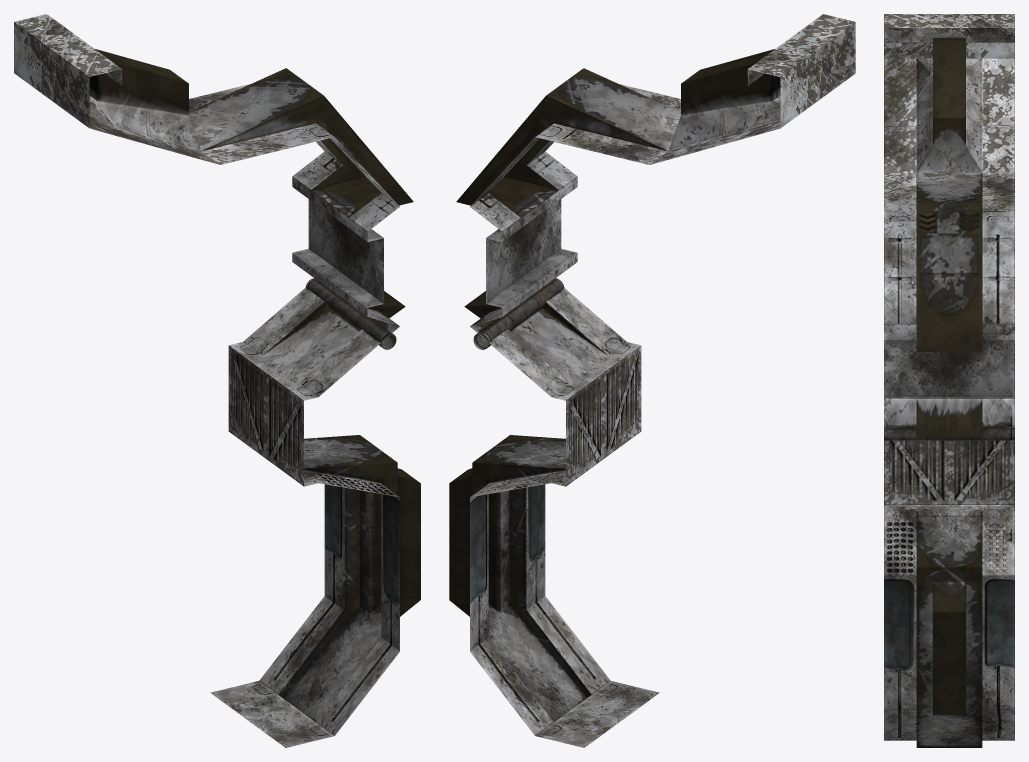
File: strct_WH_Z1_wall.fbx
3 views of the same model, side by side, from view 1: azimuth 30°, elevation 25°; view 2: azimuth 150°, elevation 25°; view 3: azimuth 270°, elevation 25° (orthographic). The views are drawn at different scales.
Visible parts, largest first — view 1: polySurface257; view 2: polySurface257; view 3: polySurface257.
Part boxes in pixels (x1,y1,x2,y2): polySurface257: (14,14,420,747); polySurface257: (449,14,855,747); polySurface257: (884,14,1014,747).
Bounding box in the file's own units: 704 × 1361 × 256.
